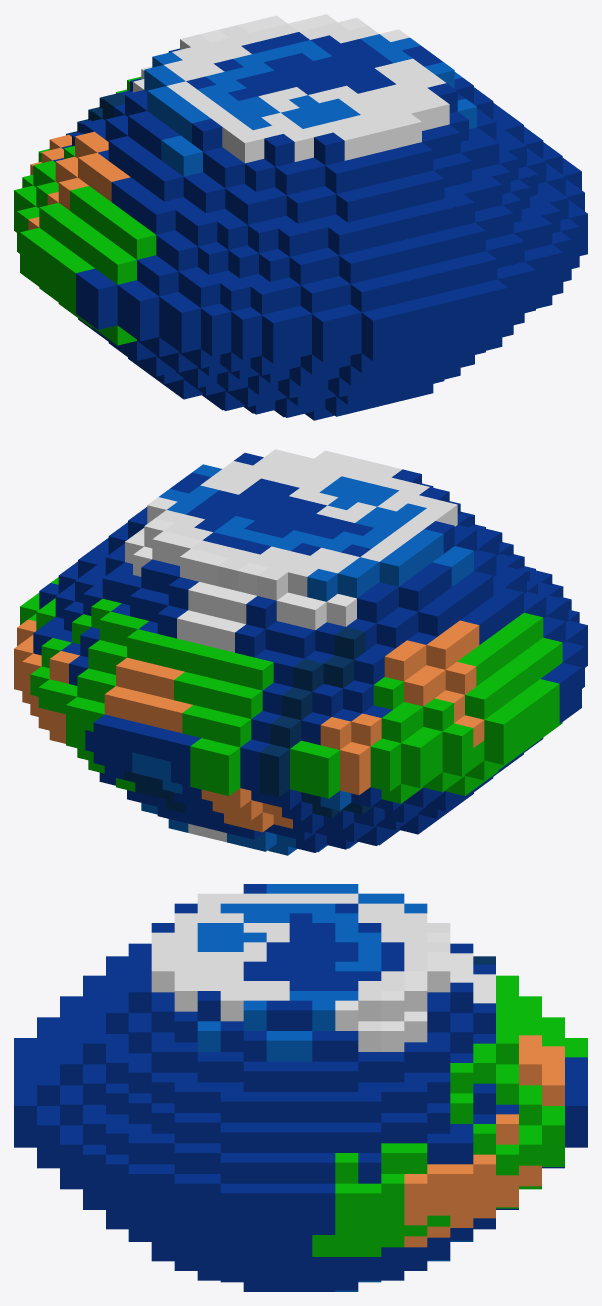
File: Planet.obj
3 renders of one model, top to bottom at view 1: azimuth 30°, elevation 25°; view 2: azimuth 150°, elevation 25°; view 3: azimuth 270°, elevation 25°, orthographic. The views are drawn at different scales.
Visible parts, largest first — view 1: Planet; view 2: Planet; view 3: Planet.
Boxes of the visible parts, x1=… form: Planet: x1=14, y1=14, x2=587, y2=420; Planet: x1=14, y1=449, x2=587, y2=855; Planet: x1=14, y1=884, x2=587, y2=1291.
Bounding box in the file's own units: 25 × 14 × 25.
1 material, 1 textured.
